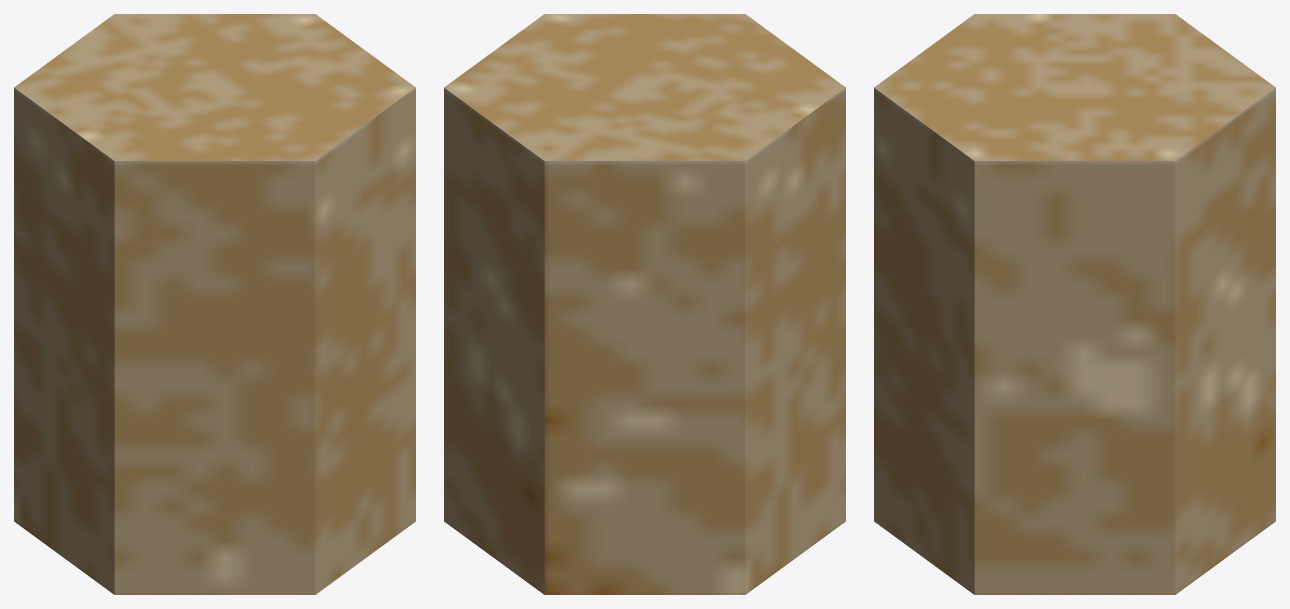
The model's file is SM_Dungeon_Candle_Stubby.fbx.
3 renders of one model, left to right at view 1: azimuth 30°, elevation 25°; view 2: azimuth 150°, elevation 25°; view 3: azimuth 270°, elevation 25°, orthographic.
Visible parts, largest first — view 1: SM_Dungeon_Candle_Stubby; view 2: SM_Dungeon_Candle_Stubby; view 3: SM_Dungeon_Candle_Stubby.
Part boxes in pixels (box(x1,y1,x2,y2)): SM_Dungeon_Candle_Stubby: box(14, 14, 415, 594); SM_Dungeon_Candle_Stubby: box(444, 14, 845, 594); SM_Dungeon_Candle_Stubby: box(874, 14, 1275, 594).
Bounding box in the file's own units: 10.77 × 14.81 × 12.44.
